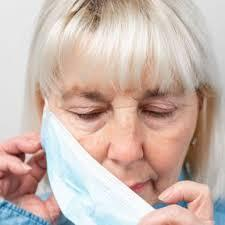Wore Mask Incorrectly: (28, 1, 218, 225)
